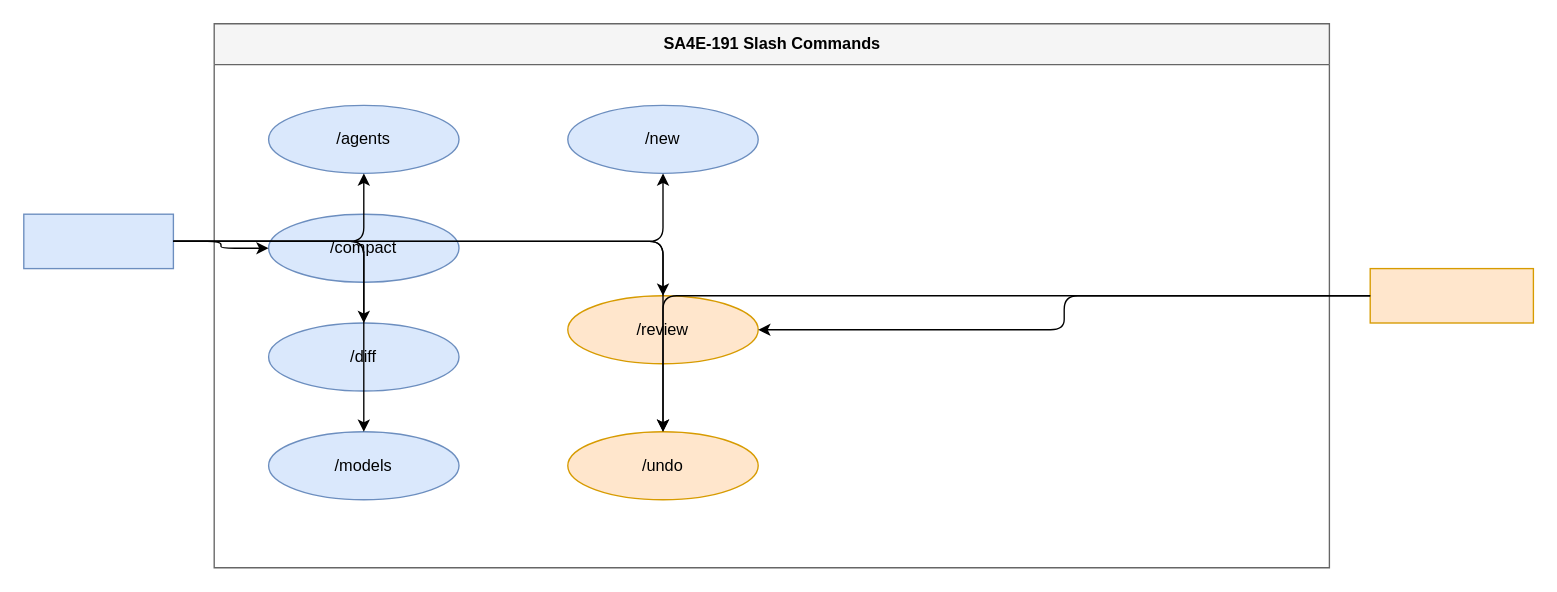
The diagram is 1557 pixels wide and 592 high, and some of its shapes have lost their labels. The box of each missing label's shape, as (x1, y1, x2, y2) in pixels:
Chat User: (22, 213, 173, 269)
Session Owner: (1369, 267, 1533, 323)
